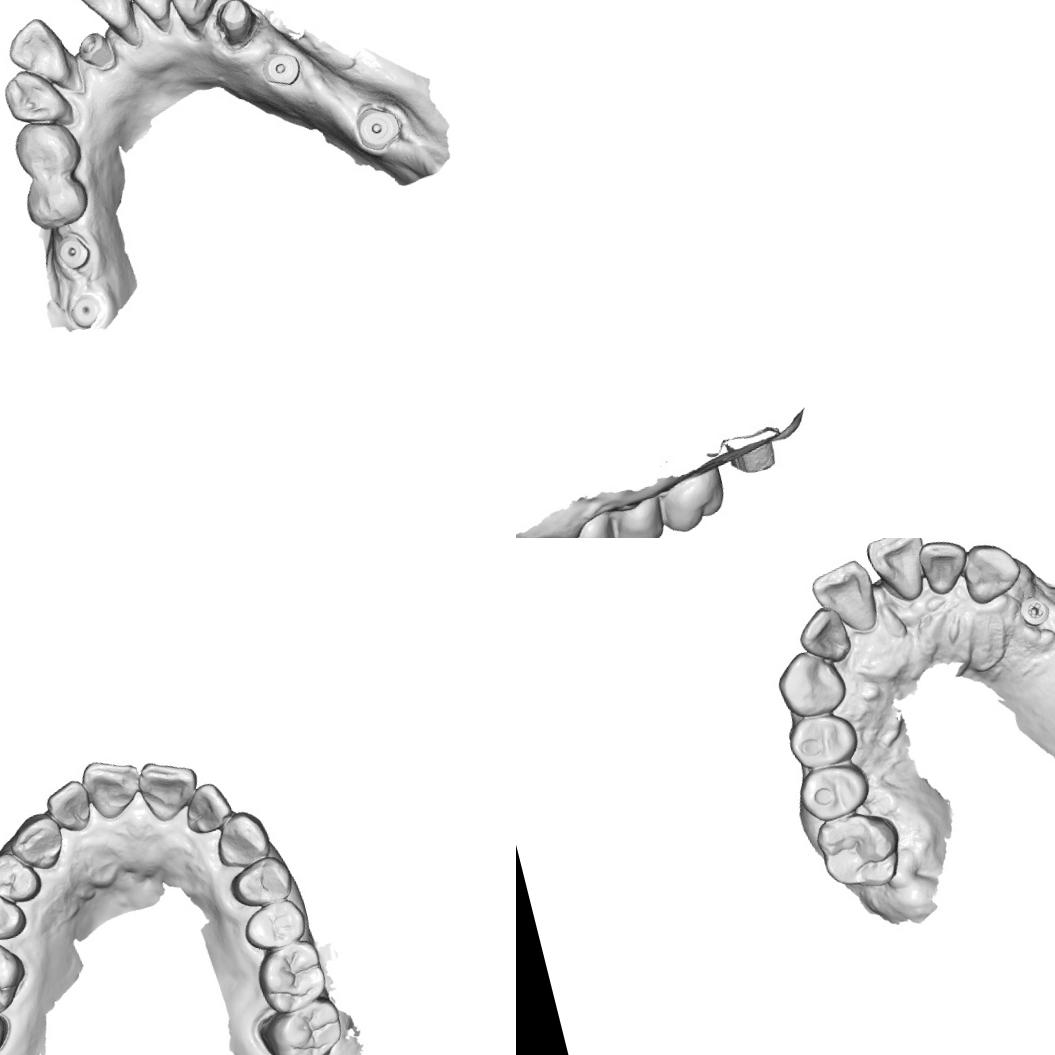canine: (770, 642, 852, 724), (0, 61, 72, 131), (955, 538, 1027, 608), (207, 805, 275, 873), (4, 808, 70, 876), (159, 0, 226, 31)
crown: (215, 0, 264, 46), (726, 438, 780, 479)
implant: (352, 95, 406, 156), (70, 26, 118, 74), (60, 283, 105, 334), (260, 46, 306, 90), (50, 226, 94, 269)
implant_plus: (1016, 591, 1054, 630)
incisor: (805, 555, 884, 642), (75, 747, 150, 826), (0, 12, 72, 93), (132, 748, 206, 826), (860, 538, 937, 609), (791, 600, 856, 670), (914, 538, 975, 599), (40, 773, 95, 838), (176, 778, 236, 837), (64, 0, 133, 36), (111, 0, 179, 27)
molar: (810, 802, 910, 898), (248, 936, 332, 1016), (252, 994, 350, 1055), (652, 464, 732, 537), (0, 921, 33, 1024)
premolar: (781, 705, 864, 775), (792, 756, 874, 826), (10, 117, 81, 184), (236, 893, 310, 956), (223, 850, 297, 913), (20, 171, 95, 230), (0, 843, 45, 911), (606, 492, 669, 538), (555, 505, 624, 538), (0, 883, 31, 949)
